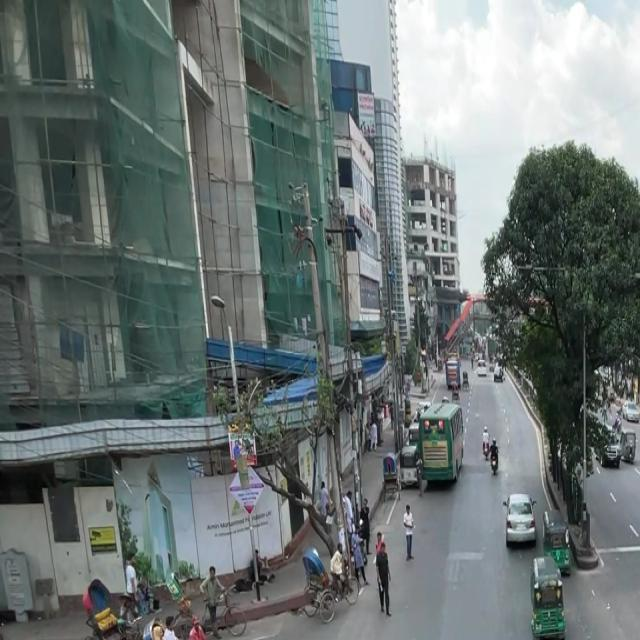car: (497, 482, 541, 554)
motorbike: (346, 520, 373, 587), (180, 613, 240, 640)
rickshaw: (521, 554, 573, 640), (538, 511, 576, 575)
